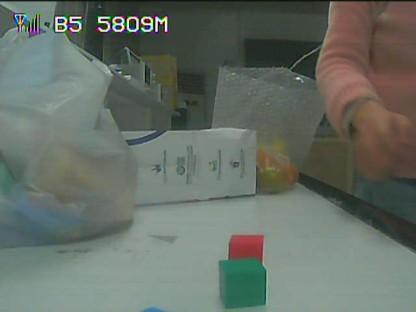g: (219, 258, 265, 302)
r: (229, 234, 262, 263)
